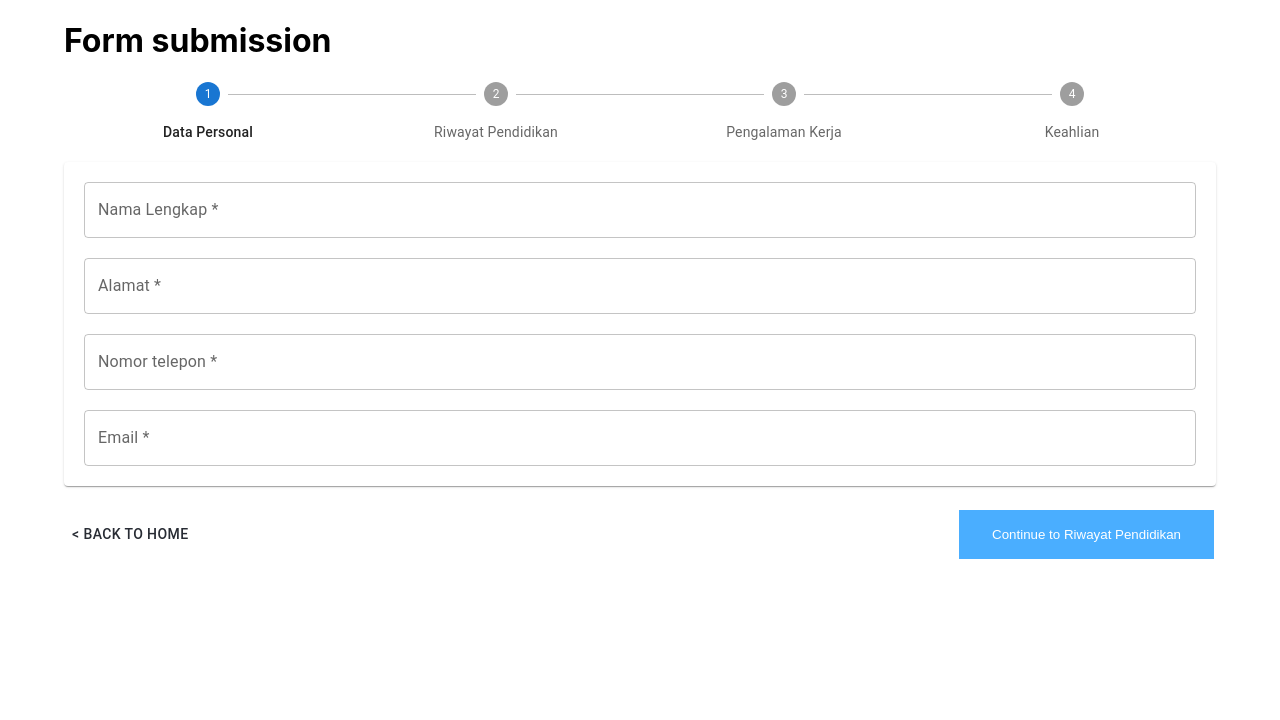
Test: FormSubmission › hides error message when field is filled and next button is clicked
Click the button "Continue to Riwayat Pendidikan" at (1087,534), box [959,510,1214,559]
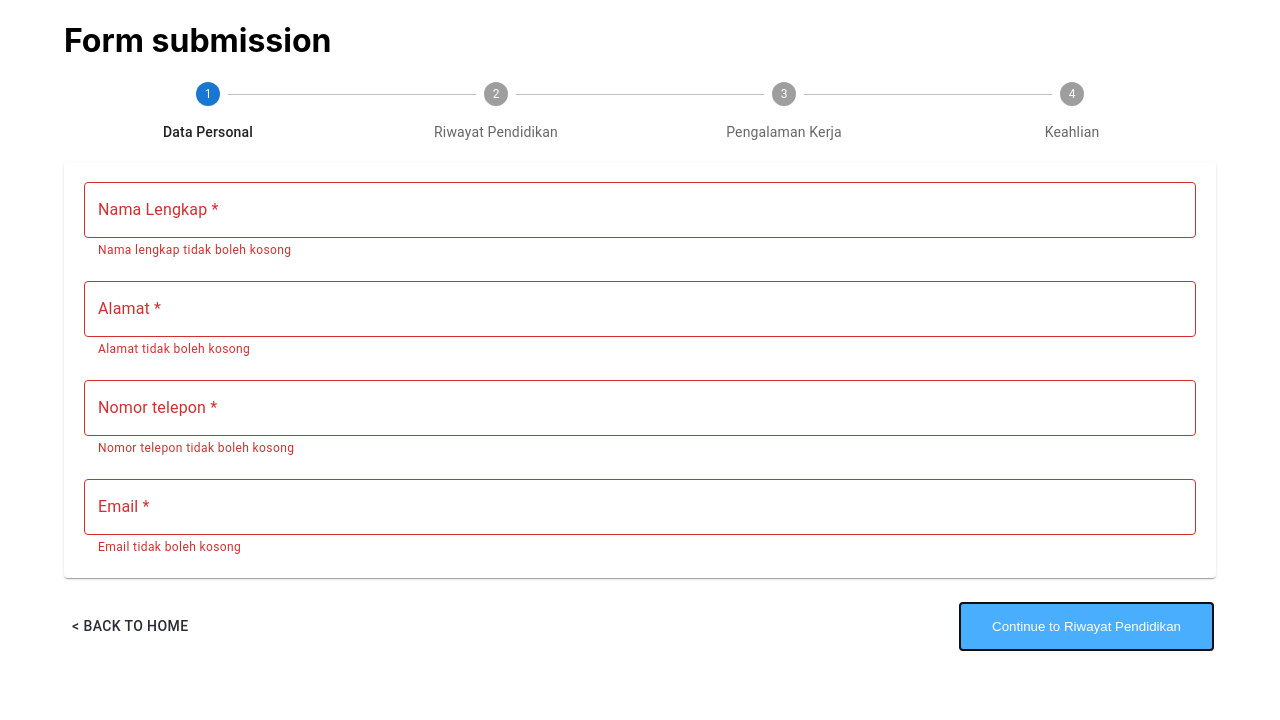
Now the text "Nama lengkap tidak boleh kosong" is shown, box [98,243,292,257]
Type "tiara" into the field labelled "Nama Lengkap *" at (640,210), box [84,182,1196,238]
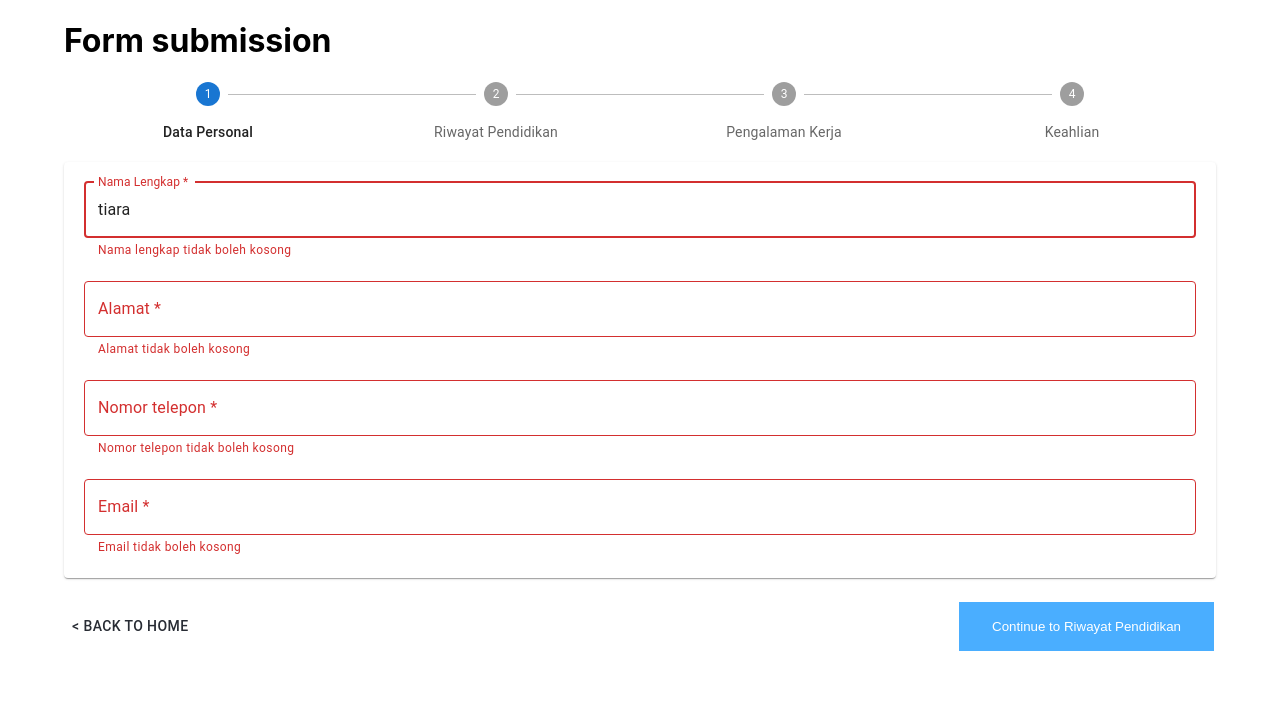
Click the button "Continue to Riwayat Pendidikan" at (1087,626), box [959,602,1214,650]
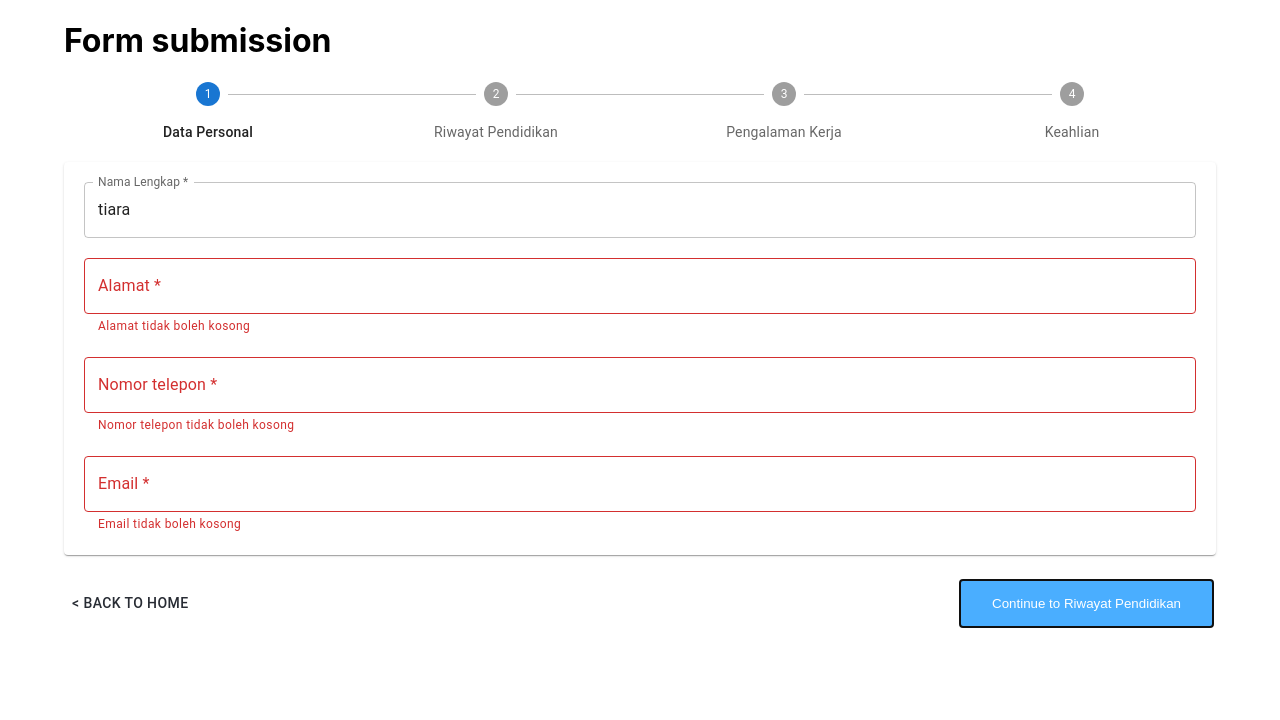
Now the text "Nama lengkap tidak boleh kosong" is gone
